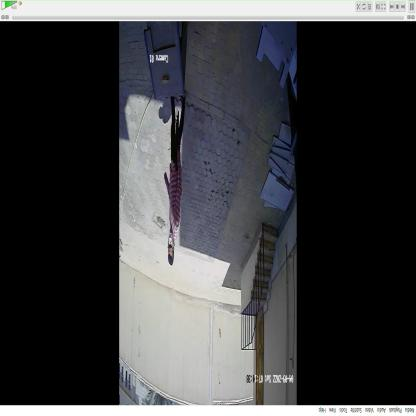handgun: (173, 108, 181, 176)
